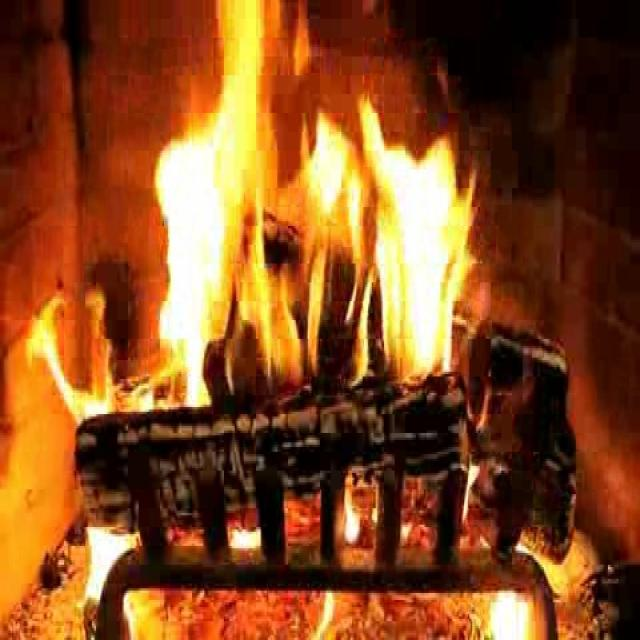fire: (111, 6, 515, 446)
